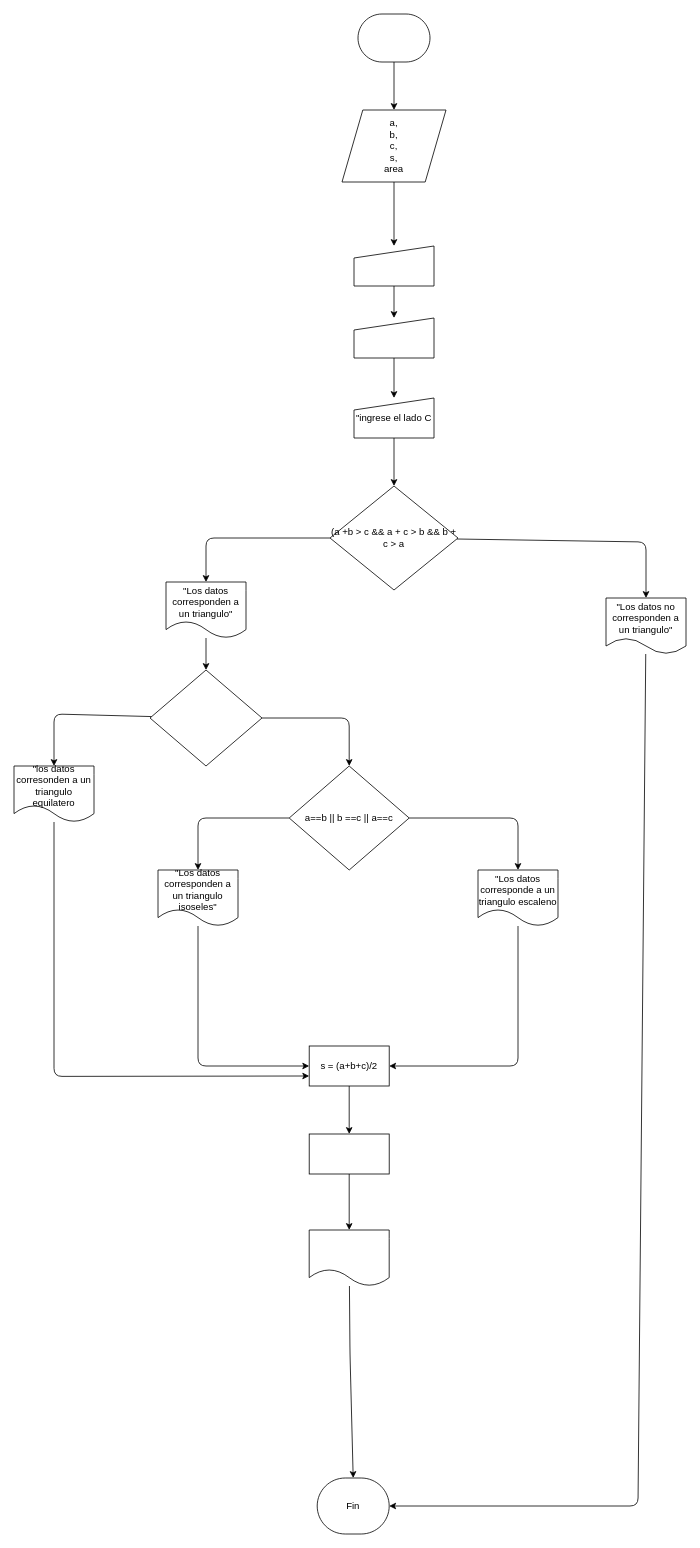
Some shapes in this 700 by 1548 pixel diagram are drawn without their labels. The centre of each missing label's shape, as x and y in pixels:
"El area del triangulo es " area: the point at 348,1257
"ingrese el lado A": the point at 393,265
"ingrese el lado B: the point at 393,337
a==b && b ==c: the point at 205,717
area = √s(s-a)(s*b)*(s-c): the point at 348,1153
Inicio: the point at 393,37
